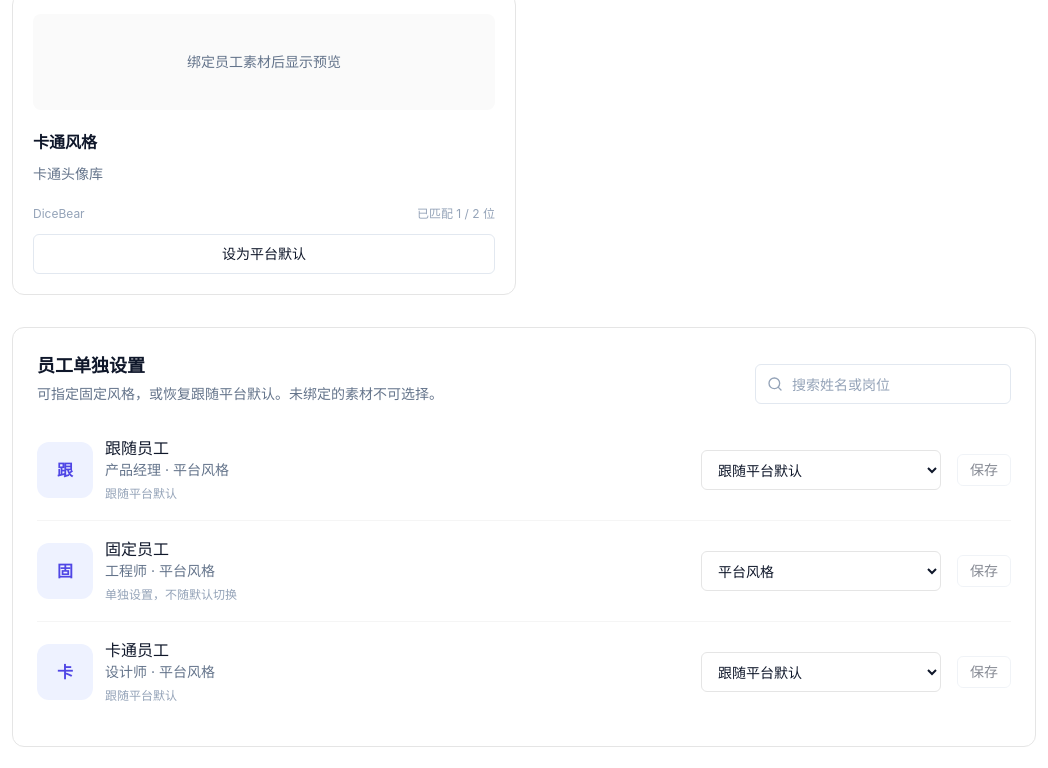
Test case: AvatarStylesPage › 员工选择会按姓名或岗位过滤，风格来源筛选也会生效
(page scrolled)
Step 1. Type "工程师" into the field named "搜索员工" → x=883, y=384, box [755,364,1011,404]
(page scrolled)
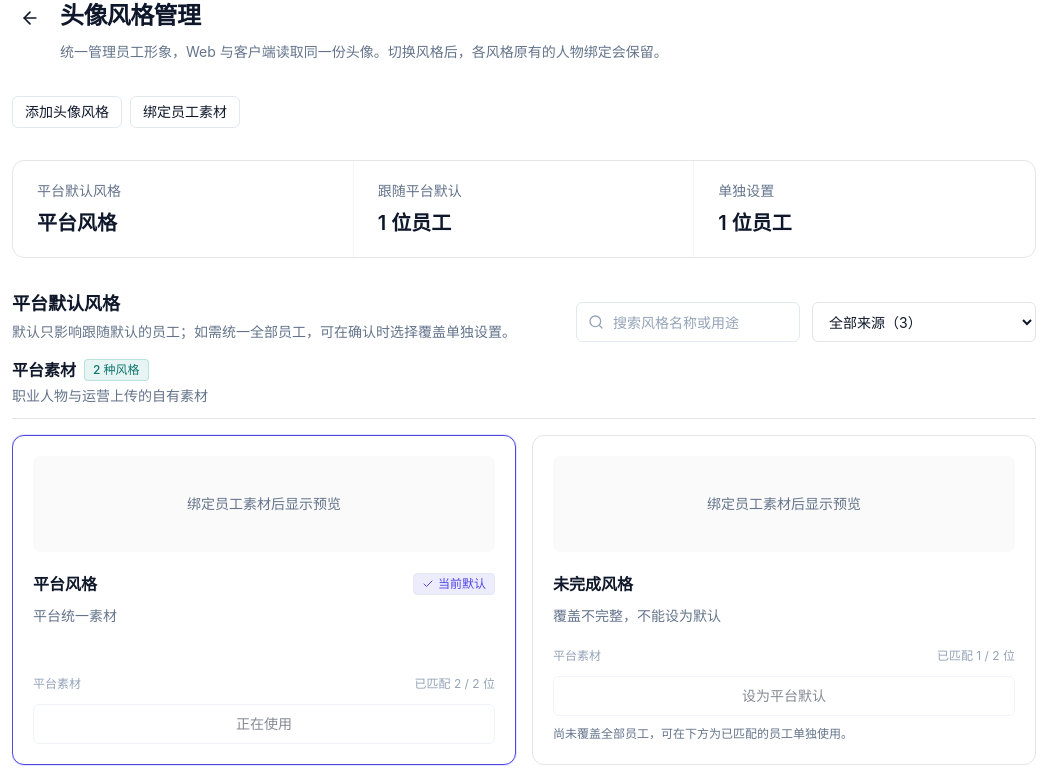
Expected: the link "跟随员工" is gone
Expected: the link "卡通员工" is gone
Step 2. Select "DiceBear（1）" in the dropdown named "筛选风格来源" → x=924, y=322, box [812,302,1036,342]
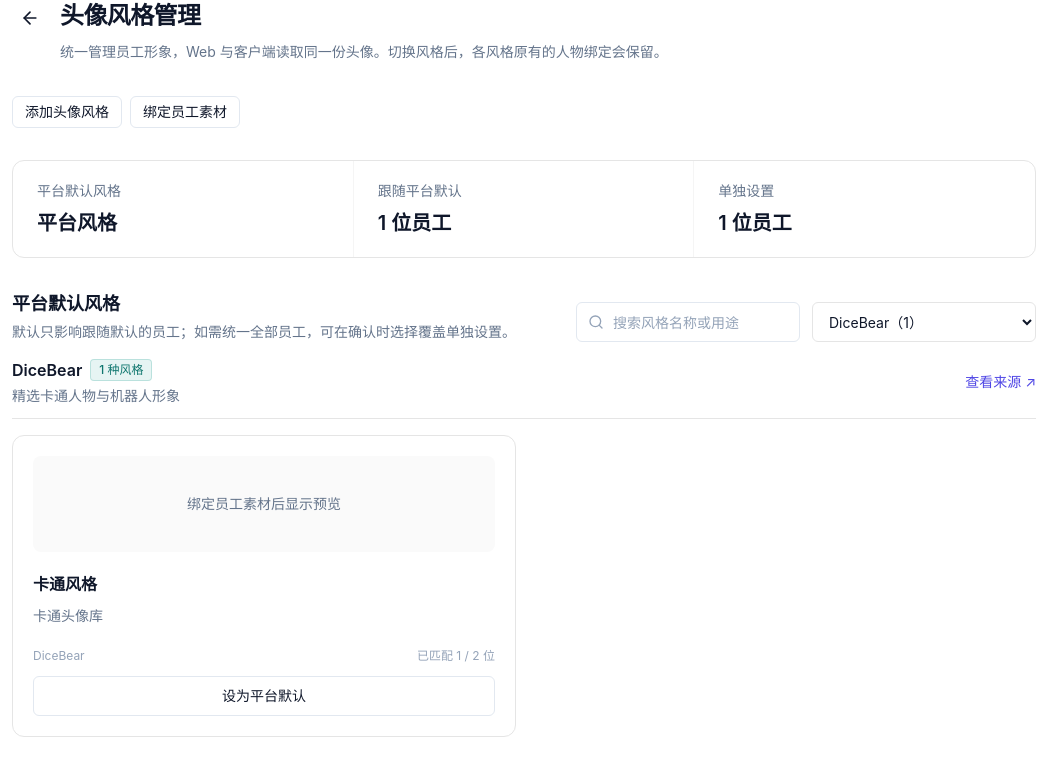
Expected: the element "卡通风格" is shown, [12,435,516,737]
Expected: the heading "未完成风格" is gone
